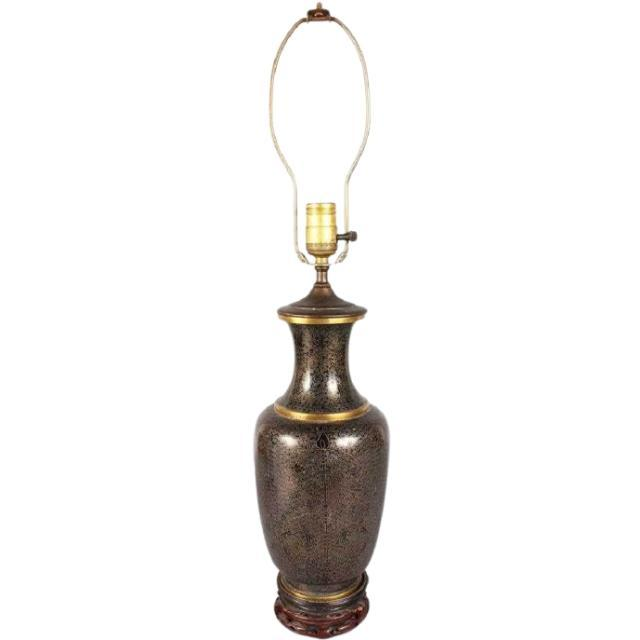lamp: (254, 18, 386, 640)
